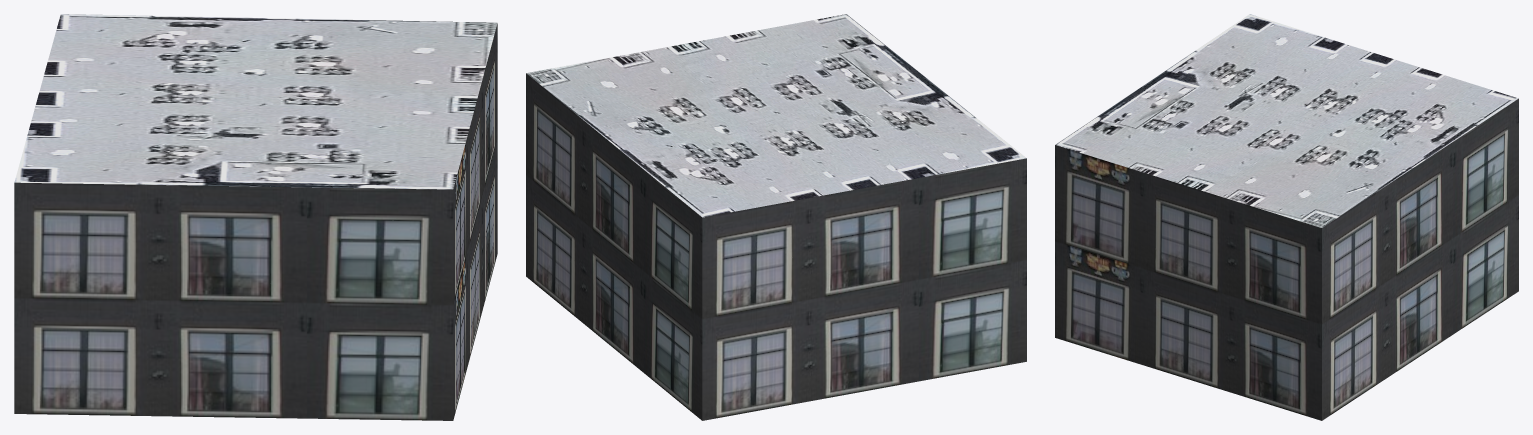
Rendered from ResTex__3350.fbx.
The picture shows the model from 3 angles, left to right: view 1: azimuth 30°, elevation 25°; view 2: azimuth 150°, elevation 25°; view 3: azimuth 270°, elevation 25°; orthographic projection. The views are drawn at different scales.
Parts seen in each view (by area): view 1: CityEngineMaterial_22_m, CityEngineMaterial_4_m; view 2: CityEngineMaterial_22_m, CityEngineMaterial_4_m; view 3: CityEngineMaterial_22_m, CityEngineMaterial_4_m.
Part boxes in pixels (x1,y1,x2,y2): CityEngineMaterial_22_m: (14, 23, 497, 420); CityEngineMaterial_4_m: (14, 14, 497, 189); CityEngineMaterial_22_m: (526, 73, 1026, 420); CityEngineMaterial_4_m: (526, 14, 1026, 217); CityEngineMaterial_22_m: (1055, 98, 1518, 420); CityEngineMaterial_4_m: (1055, 14, 1518, 227).
Bounding box in the file's own units: 14.29 × 6 × 13.08.
2 materials, 2 textured.
